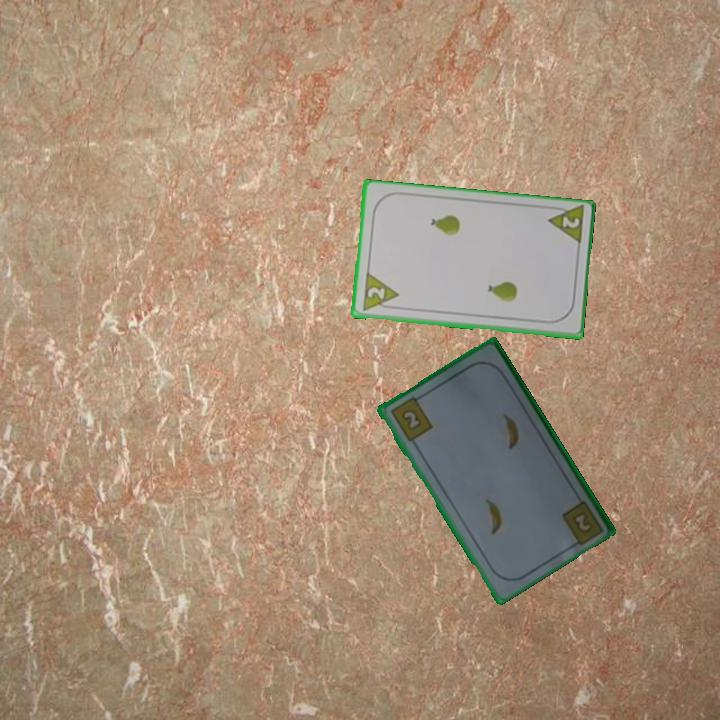2b: (386, 393, 435, 444), (569, 508, 593, 534)
2p: (358, 270, 401, 314), (544, 204, 586, 249)
